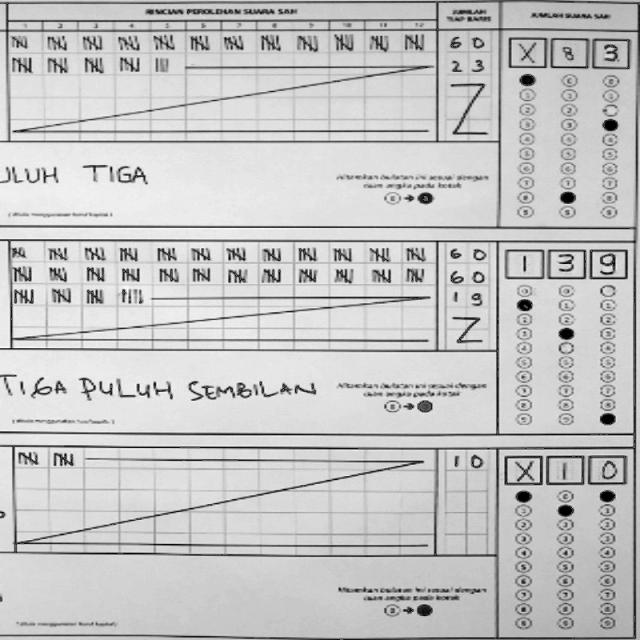Suara: (498, 34, 633, 72), (497, 451, 631, 489), (498, 246, 633, 283)
